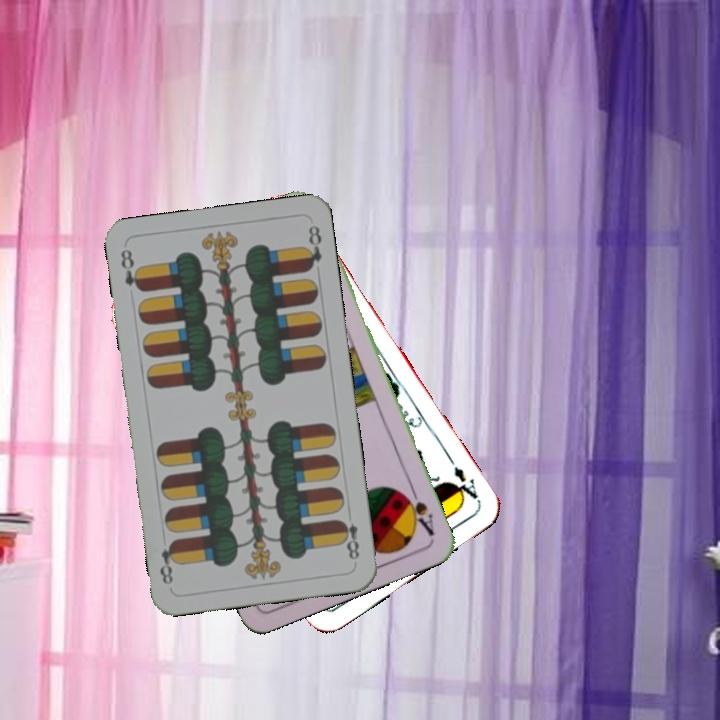E8: (117, 244, 145, 294), (336, 516, 362, 563)
EA: (446, 462, 484, 507)
SA: (398, 482, 437, 539)
